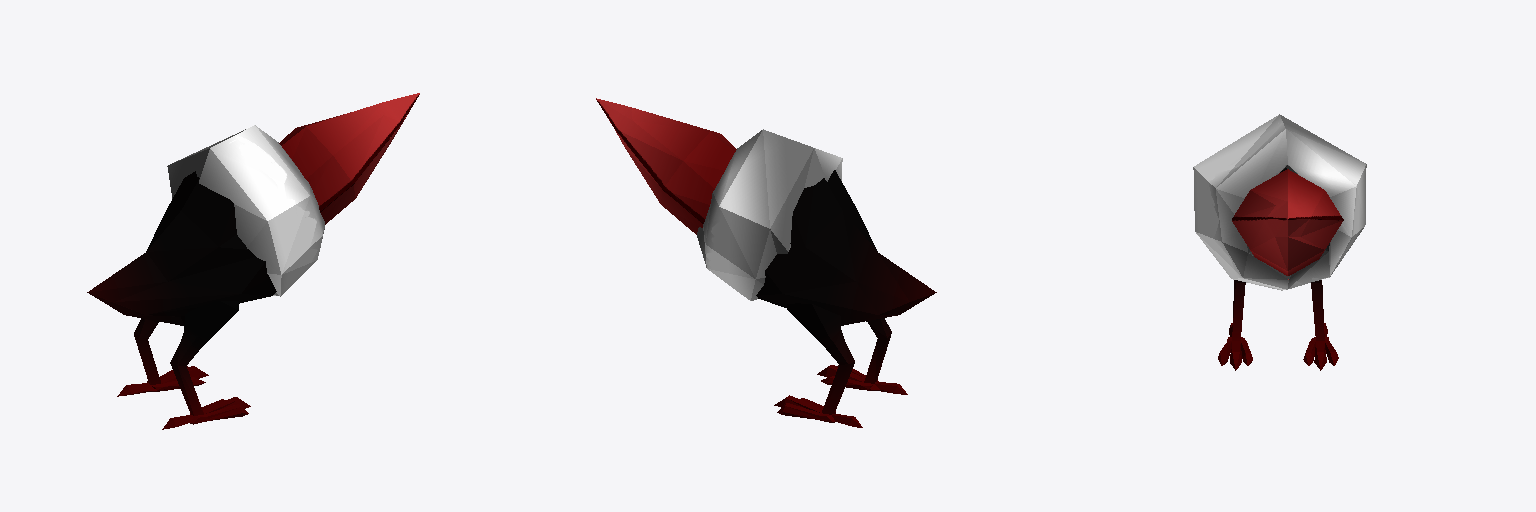
3 renders of one model, left to right at view 1: azimuth 30°, elevation 25°; view 2: azimuth 150°, elevation 25°; view 3: azimuth 270°, elevation 25°, orthographic.
Parts seen in each view (by area): view 1: crowlet_body, mane, pCube1, pCube4, pCube3 pCube2; view 2: crowlet_body, mane, pCube1, pCube3 pCube2, pCube4; view 3: mane, pCube1, pCube3 pCube2, pCube4.
Part boxes in pixels (x1,y1,x2,y2): crowlet_body: (87, 171, 276, 325); mane: (167, 125, 324, 296); pCube1: (279, 93, 419, 224); pCube4: (162, 301, 250, 429); pCube3 pCube2: (117, 318, 208, 396); crowlet_body: (756, 170, 936, 325); mane: (697, 129, 842, 300); pCube1: (596, 98, 736, 234); pCube3 pCube2: (774, 303, 862, 427); pCube4: (817, 318, 907, 394); mane: (1193, 114, 1366, 290); pCube1: (1232, 169, 1343, 275); pCube3 pCube2: (1303, 280, 1338, 370); pCube4: (1218, 280, 1252, 370).
Bounding box in the file's own units: 88.54 × 64.3 × 39.31.
1 materials, 1 textured.